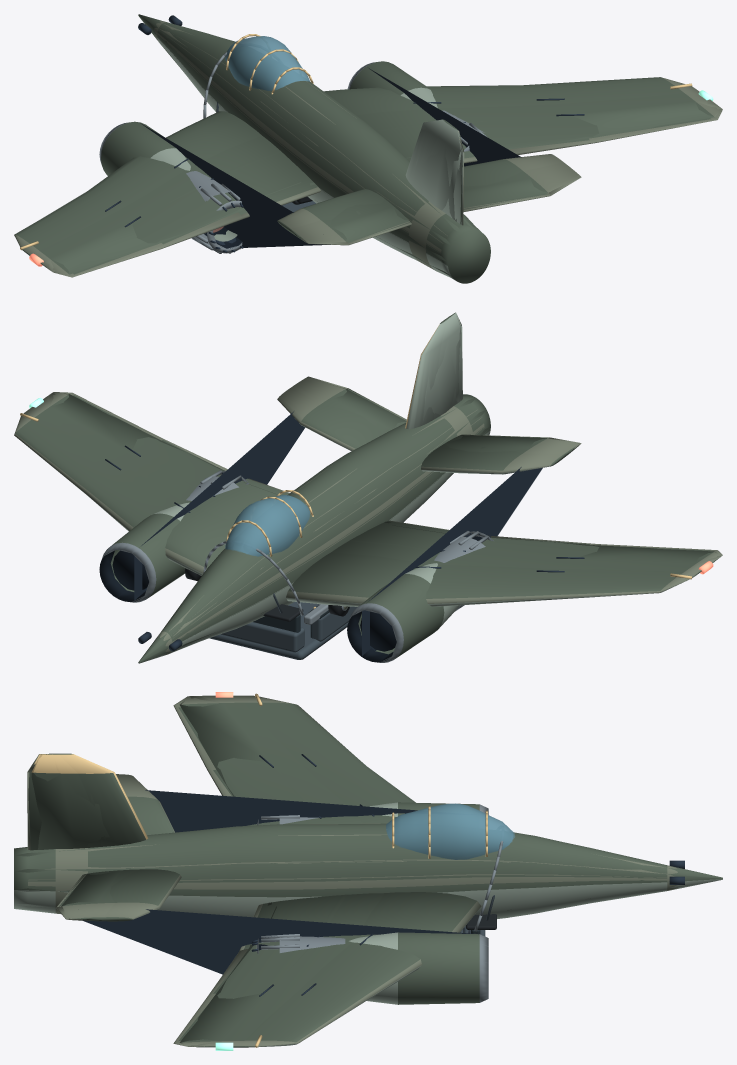
3 views of the same model, one above another, from view 1: azimuth 30°, elevation 25°; view 2: azimuth 150°, elevation 25°; view 3: azimuth 270°, elevation 25° (orthographic). The views are drawn at different scales.
Parts seen in each view (by area): view 1: Airframe shell mesh, Airframe shell.001 mesh, Airframe shell.002 mesh, Port wing, Central fuselage, Starboard wing, Canopy glass, Canopy glass.001, Aft nacelles, Hinged Aileron.001, Hinged Aileron, Cockpit shell mesh; view 2: Airframe shell mesh, Airframe shell.001 mesh, Airframe shell.002 mesh, Port wing, Central fuselage, Starboard wing, Cockpit shell mesh, Canopy glass, Canopy glass.001, Aft nacelles; view 3: Airframe shell mesh, Airframe shell.001 mesh, Airframe shell.002 mesh, Starboard wing, Port wing, Central fuselage, Canopy glass, Canopy glass.001, Aft nacelles, Cockpit shell mesh, Hinged Aileron, Hinged Aileron.001.
Part boxes in pixels (bbox=[...]): Airframe shell mesh: bbox=[14, 14, 713, 283]; Airframe shell.001 mesh: bbox=[14, 21, 721, 274]; Airframe shell.002 mesh: bbox=[45, 14, 720, 276]; Port wing: bbox=[37, 121, 331, 272]; Central fuselage: bbox=[140, 34, 474, 245]; Starboard wing: bbox=[364, 61, 717, 186]; Canopy glass: bbox=[225, 36, 309, 90]; Canopy glass.001: bbox=[226, 36, 309, 90]; Aft nacelles: bbox=[310, 124, 559, 276]; Hinged Aileron.001: bbox=[508, 109, 722, 154]; Hinged Aileron: bbox=[46, 212, 242, 277]; Cockpit shell mesh: bbox=[203, 52, 315, 212]; Airframe shell mesh: bbox=[14, 315, 714, 663]; Airframe shell.001 mesh: bbox=[43, 313, 721, 662]; Airframe shell.002 mesh: bbox=[45, 313, 720, 663]; Port wing: bbox=[362, 440, 717, 660]; Central fuselage: bbox=[134, 443, 447, 655]; Starboard wing: bbox=[37, 377, 331, 601]; Cockpit shell mesh: bbox=[203, 541, 357, 659]; Canopy glass: bbox=[225, 495, 310, 556]; Canopy glass.001: bbox=[225, 495, 309, 555]; Aft nacelles: bbox=[310, 314, 558, 521]; Airframe shell mesh: bbox=[14, 692, 722, 1050]; Airframe shell.001 mesh: bbox=[14, 695, 674, 1047]; Airframe shell.002 mesh: bbox=[14, 696, 722, 1046]; Starboard wing: bbox=[64, 908, 484, 1046]; Port wing: bbox=[145, 695, 483, 832]; Central fuselage: bbox=[208, 803, 514, 944]; Canopy glass: bbox=[386, 803, 513, 859]; Canopy glass.001: bbox=[386, 803, 510, 855]; Aft nacelles: bbox=[14, 754, 208, 913]; Cockpit shell mesh: bbox=[460, 841, 503, 936]; Hinged Aileron: bbox=[173, 696, 231, 796]; Hinged Aileron.001: bbox=[173, 948, 248, 1046].
Bounding box in the file's own units: 12.78 × 3.38 × 10.81.
